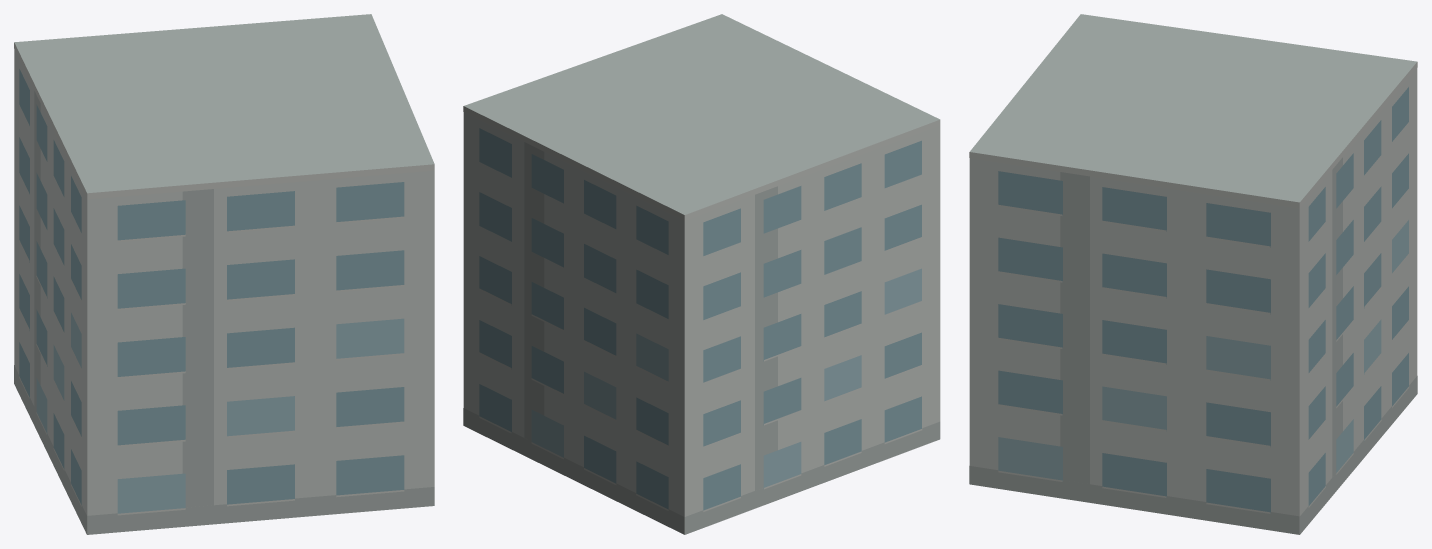
The model's file is survey-upis-32885025.glb.
3 renders of one model, left to right at view 1: azimuth 30°, elevation 25°; view 2: azimuth 150°, elevation 25°; view 3: azimuth 270°, elevation 25°, orthographic. The views are drawn at different scales.
Parts seen in each view (by area): view 1: survey-upis-32885025.tmp; view 2: survey-upis-32885025.tmp; view 3: survey-upis-32885025.tmp.
Boxes of the visible parts, left/top/right/bottom form: survey-upis-32885025.tmp: left=14, top=14, right=434, bottom=534; survey-upis-32885025.tmp: left=463, top=14, right=940, bottom=534; survey-upis-32885025.tmp: left=969, top=14, right=1417, bottom=534.
Bounding box in the file's own units: 16.12 × 13.25 × 16.19.
